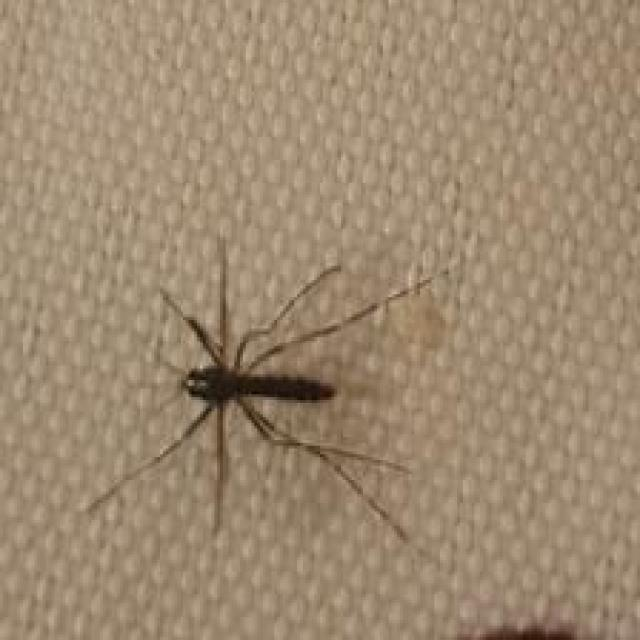Aedes albopictus: (81, 231, 450, 546)
